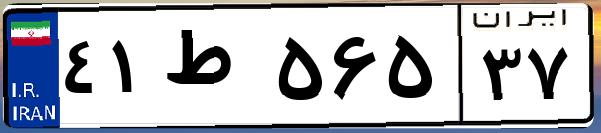1: (110, 28, 158, 98)
3: (475, 38, 525, 113)
4: (57, 26, 110, 100)
5: (270, 28, 330, 110), (385, 28, 445, 110)
6: (330, 28, 385, 110)
7: (525, 38, 570, 115)
ط: (158, 20, 270, 120)
